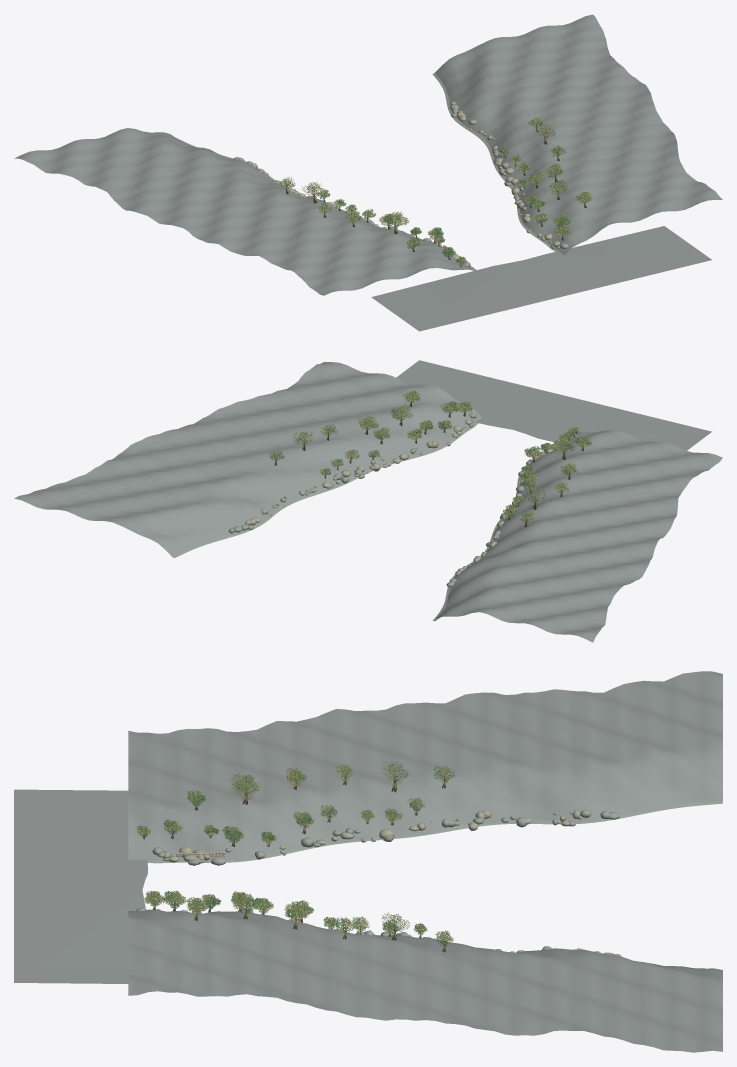
File: region_med.glb
3 views of the same model, one above another, from view 1: azimuth 30°, elevation 25°; view 2: azimuth 150°, elevation 25°; view 3: azimuth 270°, elevation 25° (orthographic). The views are drawn at different scales.
Parts seen in each view (by area): view 1: Cliff, FoliageSun, Stone, FoliageGreen, FoliageGold, StoneWarm; view 2: Cliff, FoliageSun, Stone, FoliageGold, FoliageGreen, StoneWarm; view 3: Cliff, FoliageSun, Stone, FoliageGold, FoliageGreen, StoneWarm, Bark.
Part boxes in pixels (<box>): Cliff: <box>14,14,722,331</box>; FoliageSun: <box>282,117,592,264</box>; Stone: <box>176,73,568,274</box>; FoliageGreen: <box>280,120,570,263</box>; FoliageGold: <box>278,117,590,263</box>; StoneWarm: <box>235,110,559,261</box>; Cliff: <box>14,360,722,642</box>; FoliageSun: <box>271,390,589,521</box>; Stone: <box>173,412,559,620</box>; FoliageGold: <box>269,396,584,521</box>; FoliageGreen: <box>269,401,591,522</box>; StoneWarm: <box>245,419,553,582</box>; Cliff: <box>14,671,722,1052</box>; FoliageSun: <box>137,762,453,942</box>; Stone: <box>136,801,722,956</box>; FoliageGold: <box>137,761,454,941</box>; FoliageGreen: <box>141,761,454,946</box>; StoneWarm: <box>156,810,610,950</box>; Bark: <box>142,769,445,952</box>.
Bounding box in the file's own units: 237 × 18.08 × 186.
